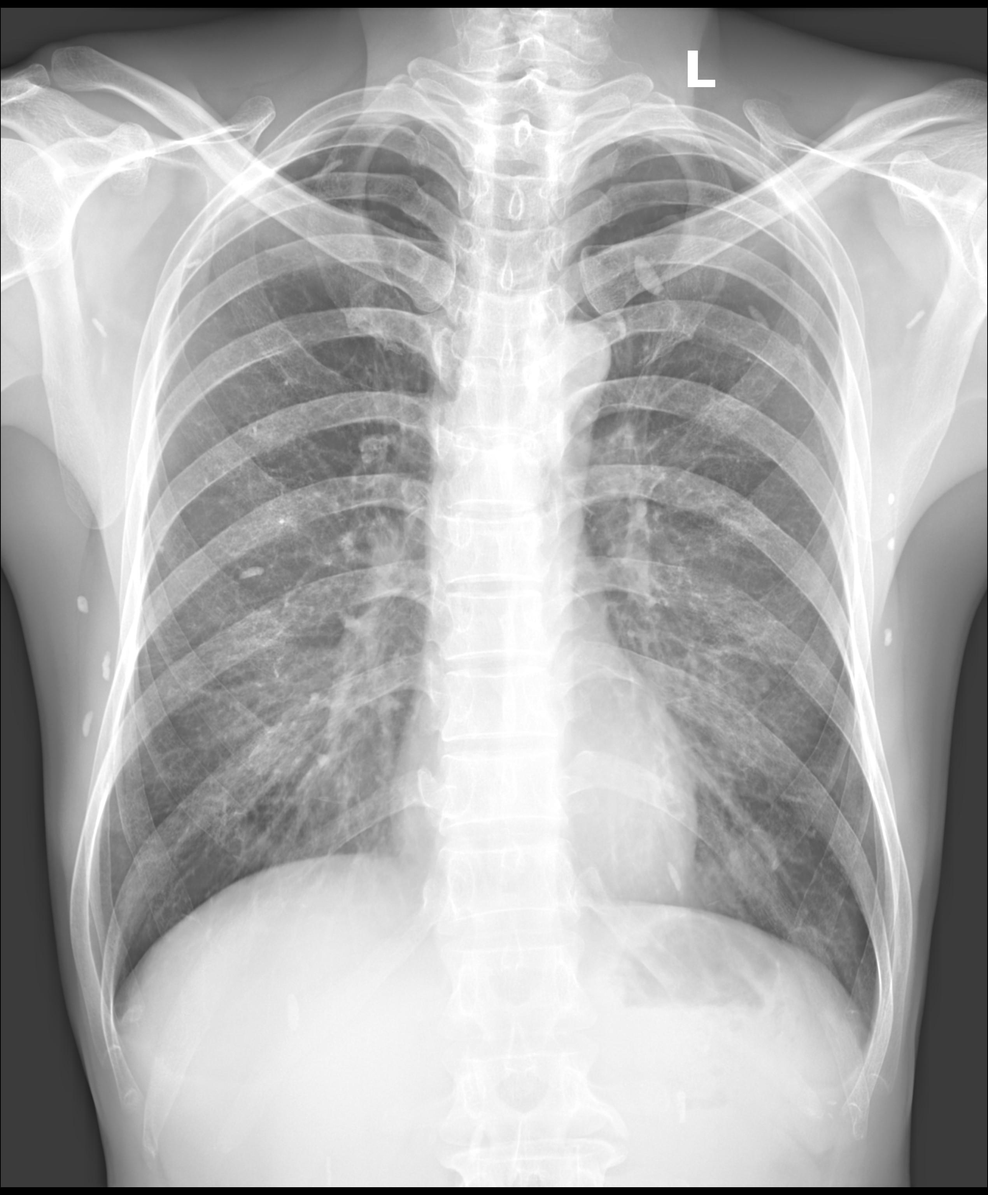Pleural thickening: (179, 181, 268, 265)
